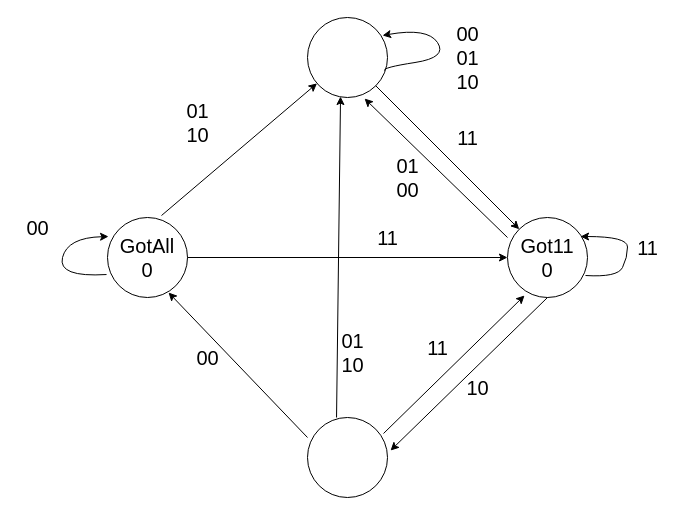
Image size: 684x515. Some labels were removed from this diagram. Here are the shapes that lost their labels. From the top down, the centre of each, then its label:
At (x=347, y=57): "Idle 0".
At (x=347, y=457): "Got10 0".
